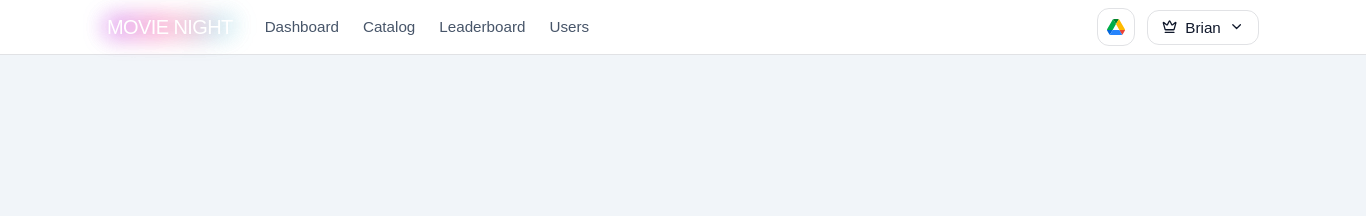
Test case: Header component with Google Drive integration › includes Google Drive link inside the account dropdown menu
Click the button "Brian" at (1203, 27), box left=1147, top=10, right=1259, bottom=44
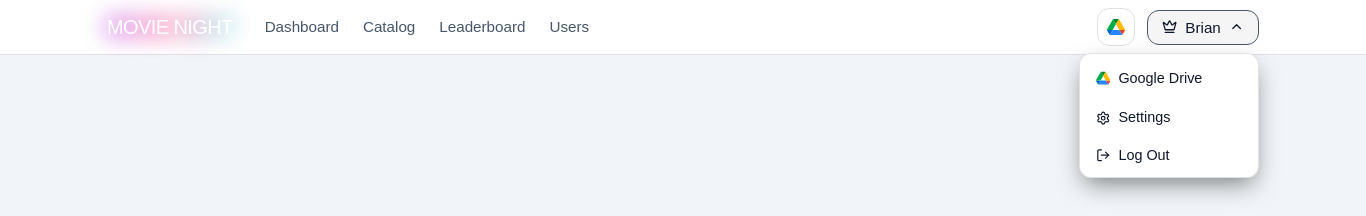
expect the menu item "Google Drive" is shown: met, box left=1096, top=70, right=1202, bottom=86
